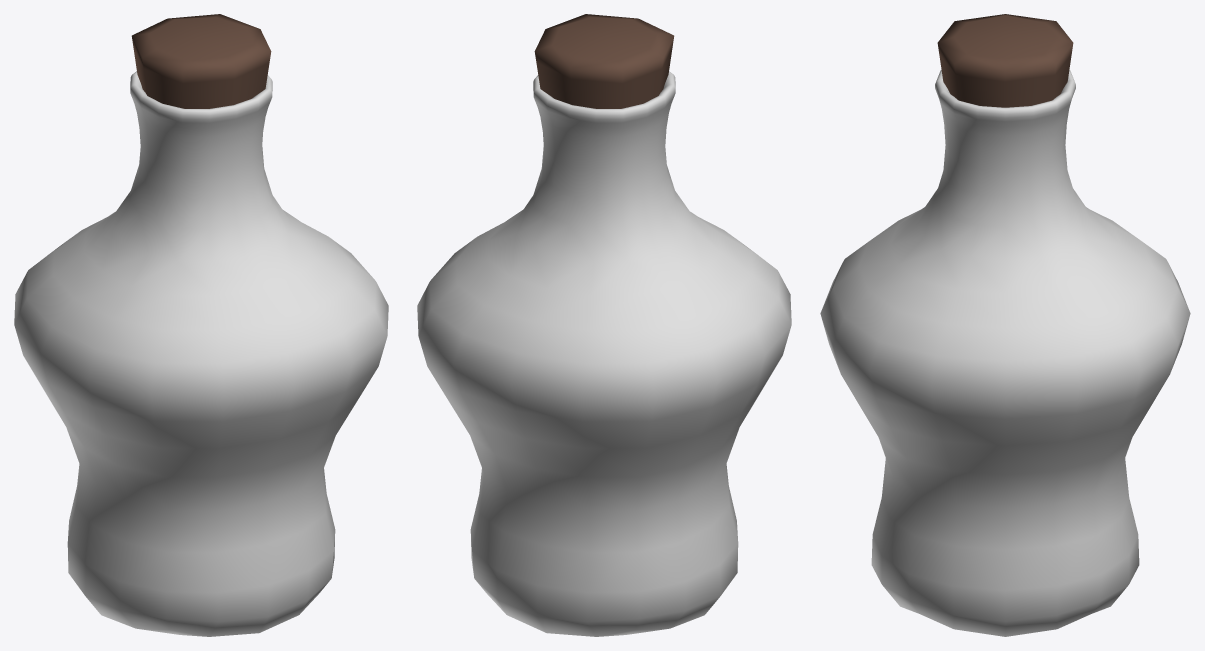
Rendered from potion3_filled.glb.
The picture shows the model from 3 angles, left to right: view 1: azimuth 30°, elevation 25°; view 2: azimuth 150°, elevation 25°; view 3: azimuth 270°, elevation 25°; orthographic projection.
Visible parts, largest first — view 1: Potion3_Filled; view 2: Potion3_Filled; view 3: Potion3_Filled.
Part boxes in pixels (x1,y1,x2,y2): Potion3_Filled: (14,14,388,636); Potion3_Filled: (417,14,791,636); Potion3_Filled: (820,14,1190,636).
Bounding box in the file's own units: 0.7187 × 1.22 × 0.7187.
